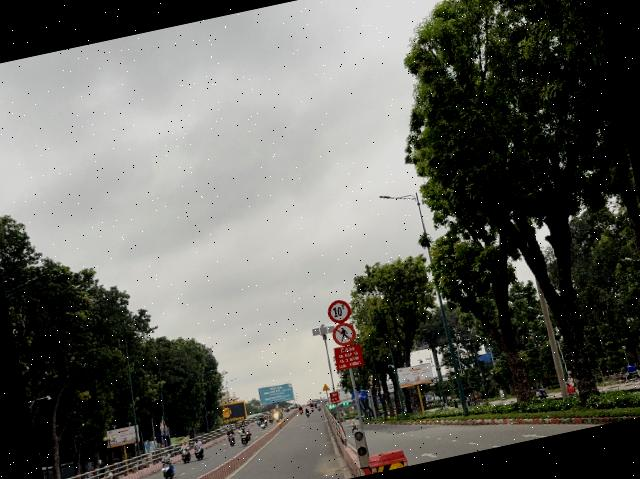cam-nguoi-di-bo: (330, 321, 357, 348)
han-che-trong-luong-xe: (326, 298, 352, 325)
